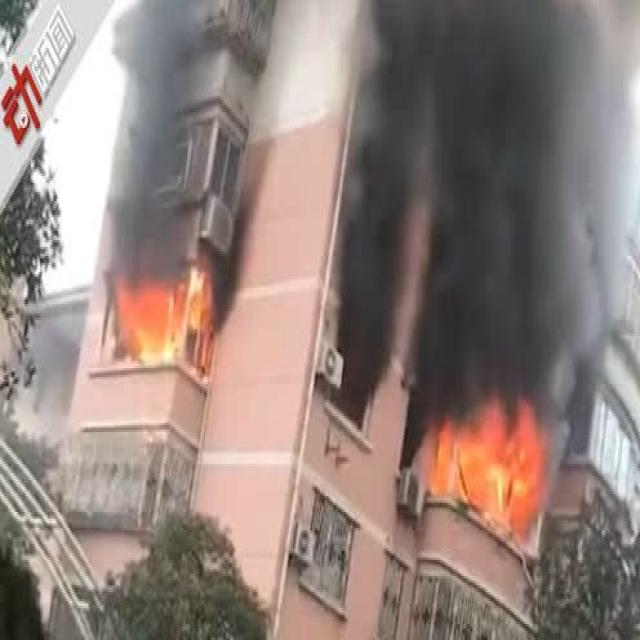fire: (421, 393, 548, 521), (115, 263, 210, 363)
smoke: (340, 7, 633, 393), (102, 0, 192, 263)
